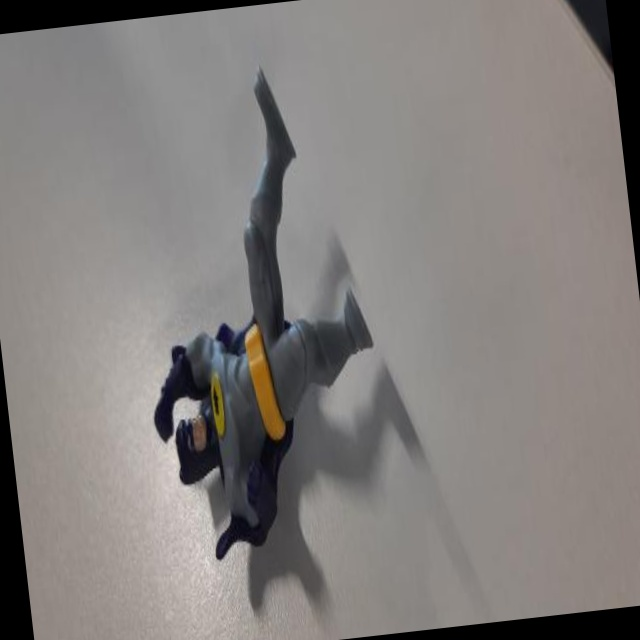Batman: (115, 51, 398, 571)
